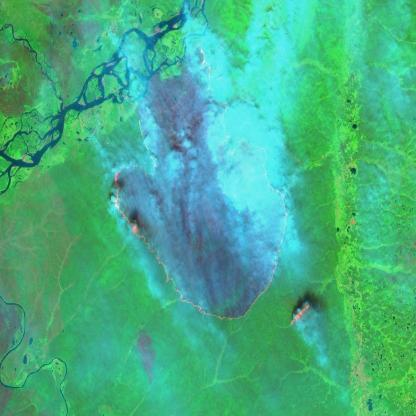fire: (110, 38, 320, 334)
